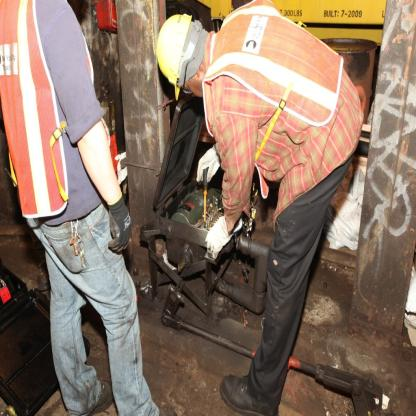Helmet: (156, 12, 203, 99)
